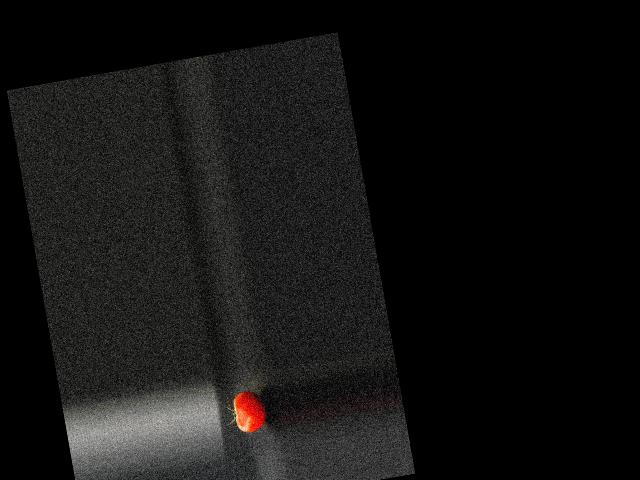tomato: (231, 389, 269, 434)
